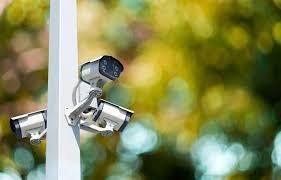Monitor: (73, 40, 153, 146)
